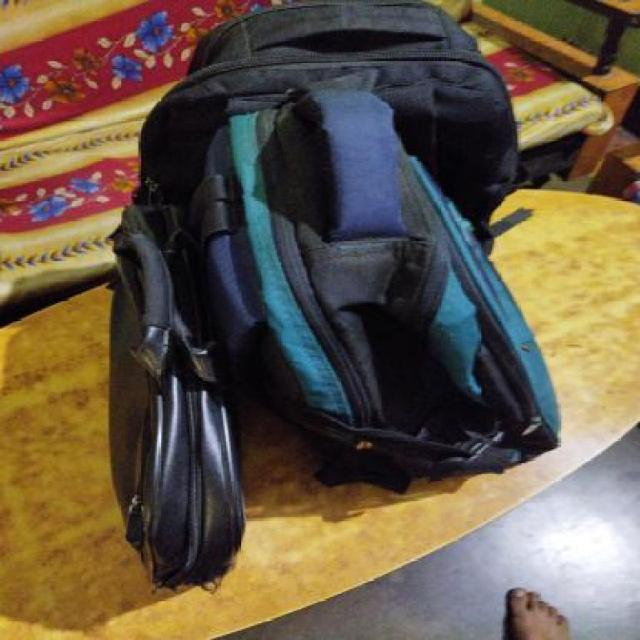backpack: (100, 189, 251, 600)
